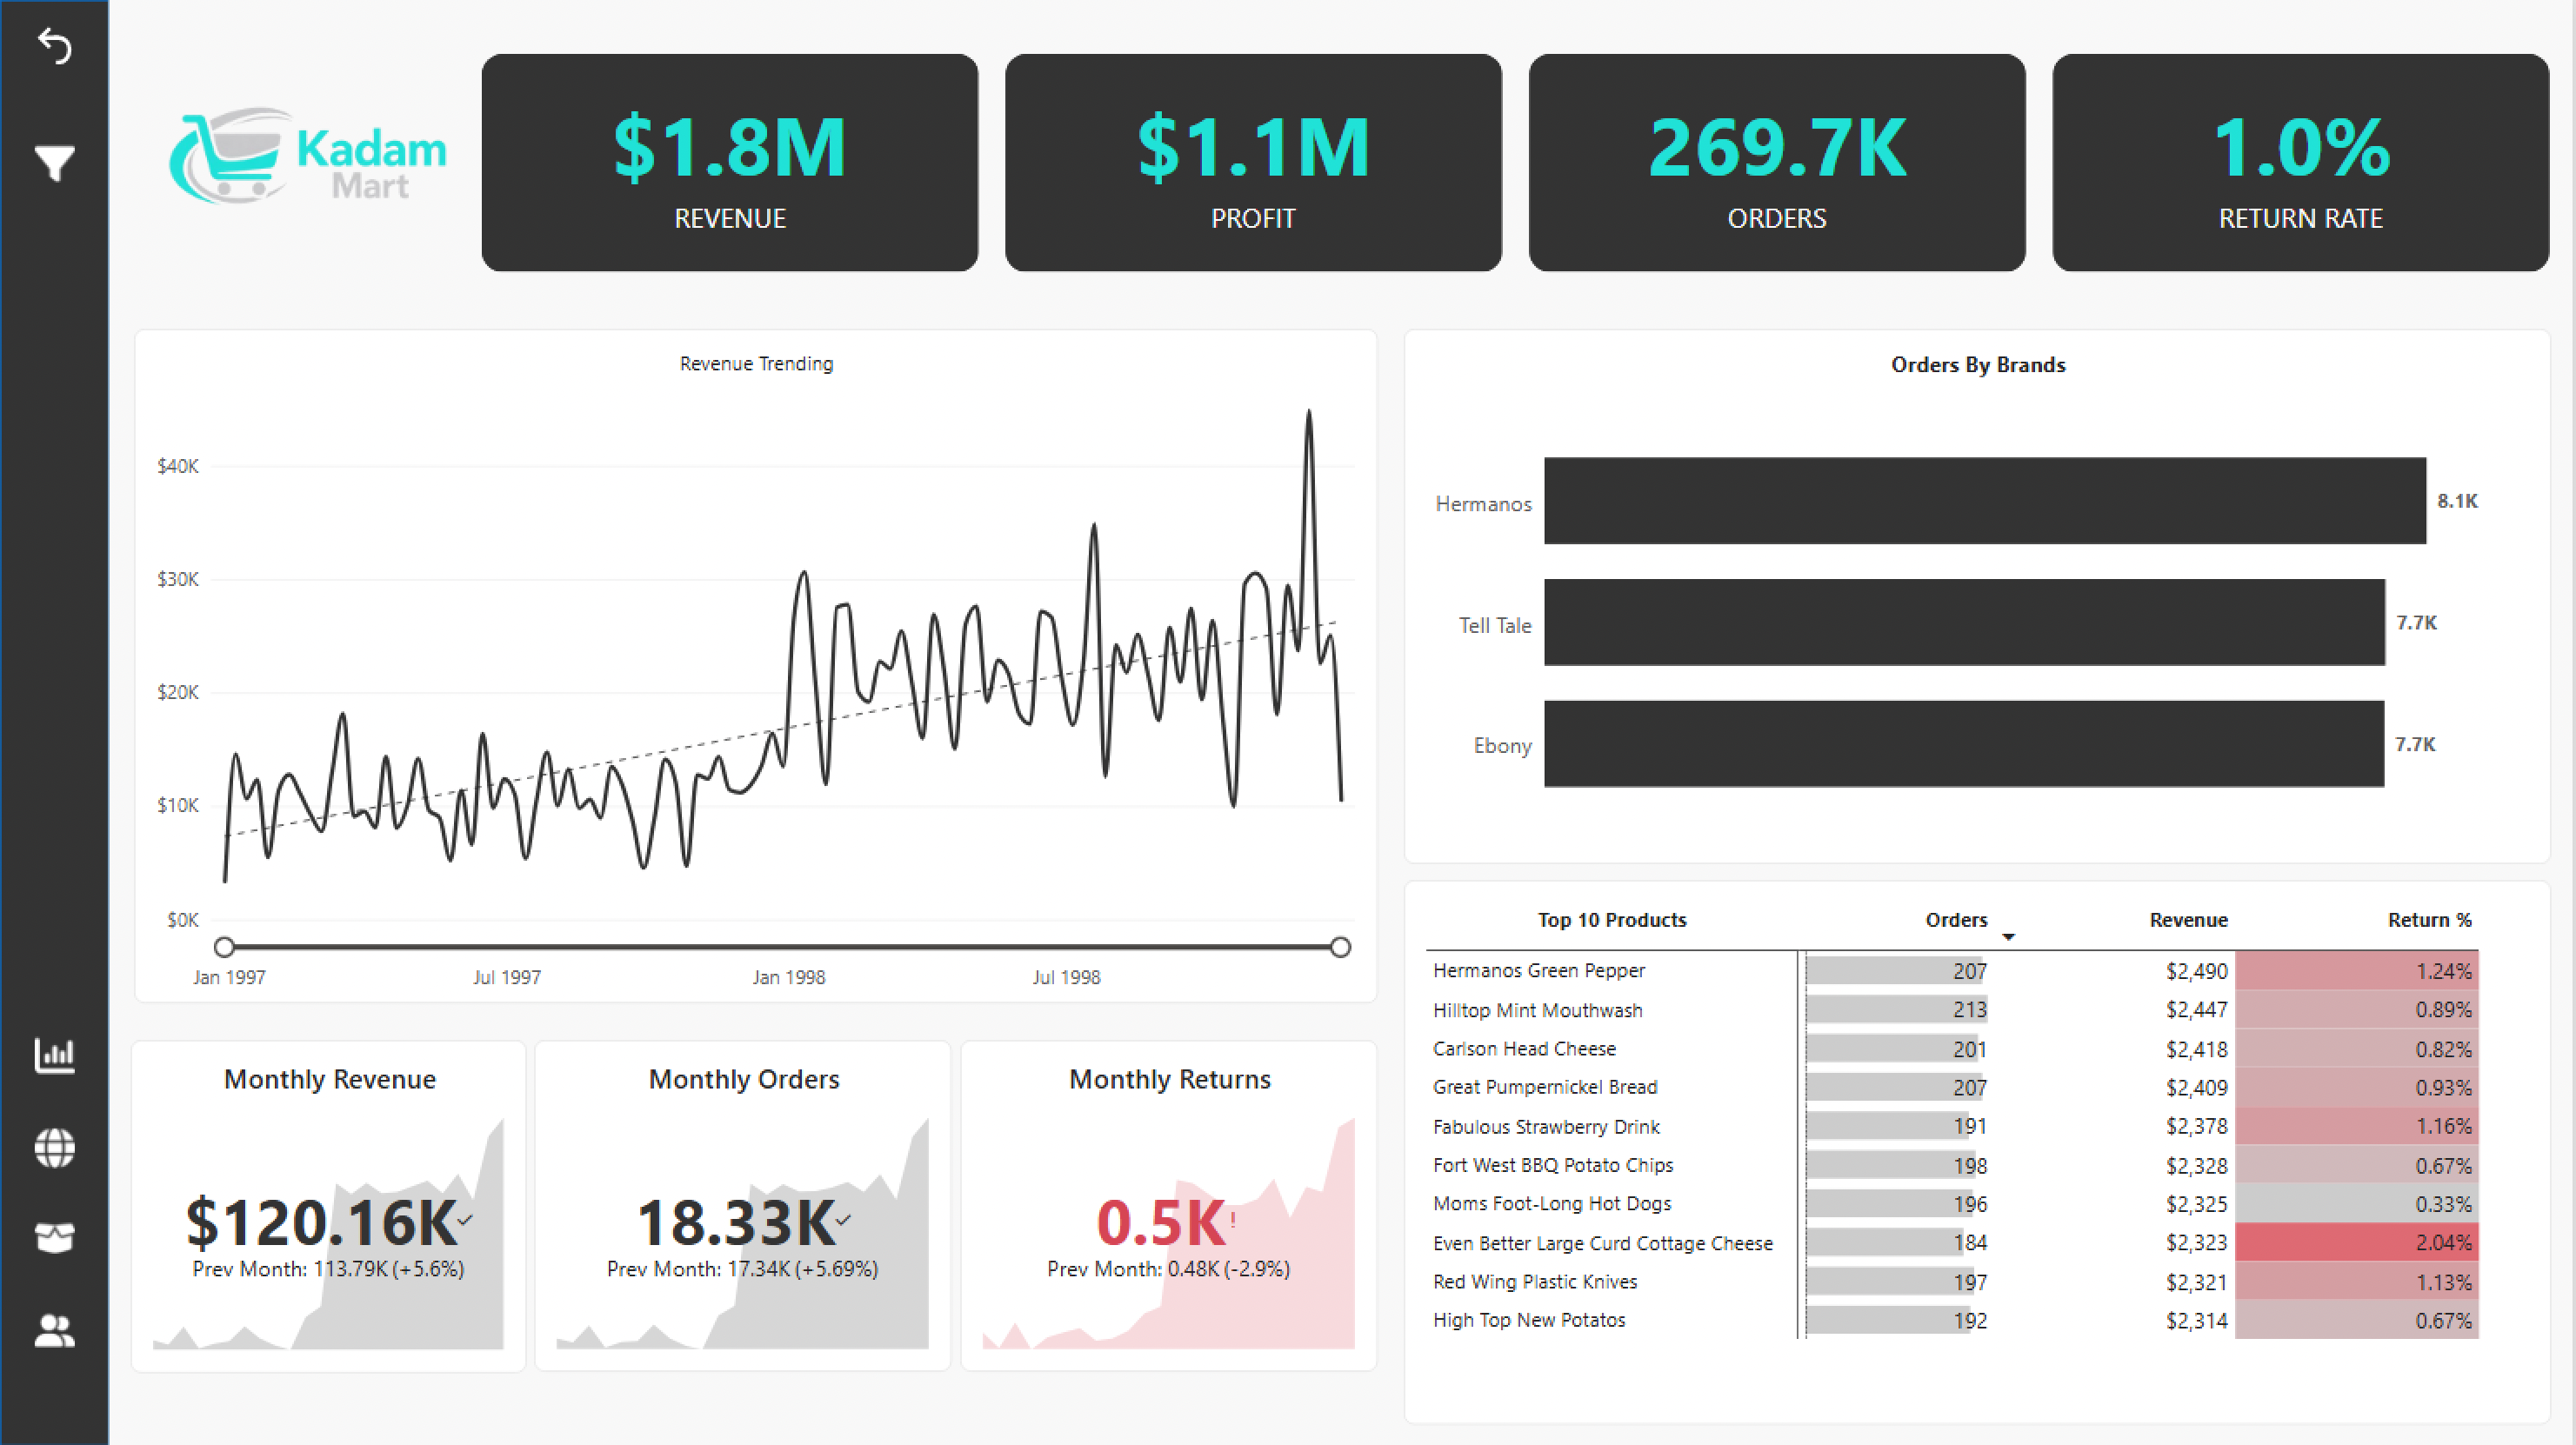

What the dashboard file says about the page in this screenshot:
{"tool":"powerbi","page":{"name":"Exec Dashboard","canvas":[1920,1080],"ordinal":0},"visuals":[{"type":"image","box":[97.1,0,262.9,245.7],"z":0},{"type":"actionButton","title":"Customer Detail","box":[0,959.7,81,68.4],"z":0,"group":"g1"},{"type":"cardVisual","fields":{"Data":["Measure Table (DAX).Total Revenue","Measure Table (DAX).Total Profit","Measure Table (DAX).Total Transactions","Measure Table (DAX).Return Rate"]},"box":[360,40,1545,163.3],"z":1000},{"type":"actionButton","title":"Product Detail","box":[0,891.3,81,68.4],"z":1000,"group":"g1"},{"type":"lineChart","title":"Revenue Trending","fields":{"Category":["Calendar.Year Hierarchy.Year","Calendar.Year Hierarchy.Quarter","Calendar.Year Hierarchy.Start of Month","Calendar.Year Hierarchy.Start of Week"],"Y":["Measure Table (DAX).Total Revenue"]},"box":[100,245.7,928.6,504.3],"z":2000},{"type":"actionButton","title":"Map","box":[0,823,81,68.4],"z":2000,"group":"g1"},{"type":"barChart","title":"Orders By Brands","fields":{"Category":["Products.product_brand"],"Y":["Measure Table (DAX).Total Transactions"]},"box":[1048.3,245,856.7,400],"z":3000},{"type":"actionButton","title":"Dashboard","box":[0,754.6,81,68.4],"z":3000,"group":"g1"},{"type":"pivotTable","fields":{"Rows":["Products.product_name"],"Values":["Measure Table (DAX).Total Transactions","Measure Table (DAX).Total Revenue","Measure Table (DAX).Return Rate"]},"box":[1048.3,656.7,856.7,406.7],"z":4000},{"type":"kpi","title":"Monthly Revenue","fields":{"Goal":["Measure Table (DAX).Last Month Revenue"],"Indicator":["Measure Table (DAX).Total Revenue"],"TrendLine":["Calendar.Start of Month"]},"box":[97.1,777.1,295.7,248.6],"z":5000},{"type":"kpi","title":"Monthly Revenue","fields":{"Goal":["Measure Table (DAX).Last Month Transaction"],"Indicator":["Measure Table (DAX).Total Transactions"],"TrendLine":["Calendar.Start of Month"]},"box":[398.3,776.7,311.7,248.3],"z":6000},{"type":"kpi","title":"Monthly Revenue","fields":{"Goal":["Measure Table (DAX).Last Month Retutn"],"Indicator":["Measure Table (DAX).Total Returns"],"TrendLine":["Calendar.Start of Month"]},"box":[716.7,776.7,311.7,248.3],"z":7000},{"type":"shape","box":[0,0,81.4,1080],"z":8000},{"type":"actionButton","box":[0,0,81,67.5],"z":9000},{"type":"actionButton","box":[0,84.8,81,75.6],"z":10000},{"type":"group","id":"g1","title":"Navigation Pane","box":[0,754.6,81,273.5],"z":12000}]}

Visuals, with their boxes on the page's 1920x1080 design canvas (x1, y1, x2, y2). These are canvas units, not pixel positions in the 2576x1445 screenshot, which may show the page scaled, cropped or inside an application window:
image: bbox=(97, 0, 360, 246)
"Customer Detail" actionButton: bbox=(0, 960, 81, 1028)
cardVisual - Measure Table (DAX).Total Revenue x Measure Table (DAX).Total Profit: bbox=(360, 40, 1905, 203)
"Product Detail" actionButton: bbox=(0, 891, 81, 960)
"Revenue Trending" lineChart: bbox=(100, 246, 1029, 750)
"Map" actionButton: bbox=(0, 823, 81, 891)
"Orders By Brands" barChart: bbox=(1048, 245, 1905, 645)
"Dashboard" actionButton: bbox=(0, 755, 81, 823)
pivotTable - Products.product_name x Measure Table (DAX).Total Transactions: bbox=(1048, 657, 1905, 1063)
"Monthly Revenue" kpi: bbox=(97, 777, 393, 1026)
"Monthly Revenue" kpi: bbox=(398, 777, 710, 1025)
"Monthly Revenue" kpi: bbox=(717, 777, 1028, 1025)
shape: bbox=(0, 0, 81, 1080)
actionButton: bbox=(0, 0, 81, 68)
actionButton: bbox=(0, 85, 81, 160)
"Navigation Pane" group: bbox=(0, 755, 81, 1028)
